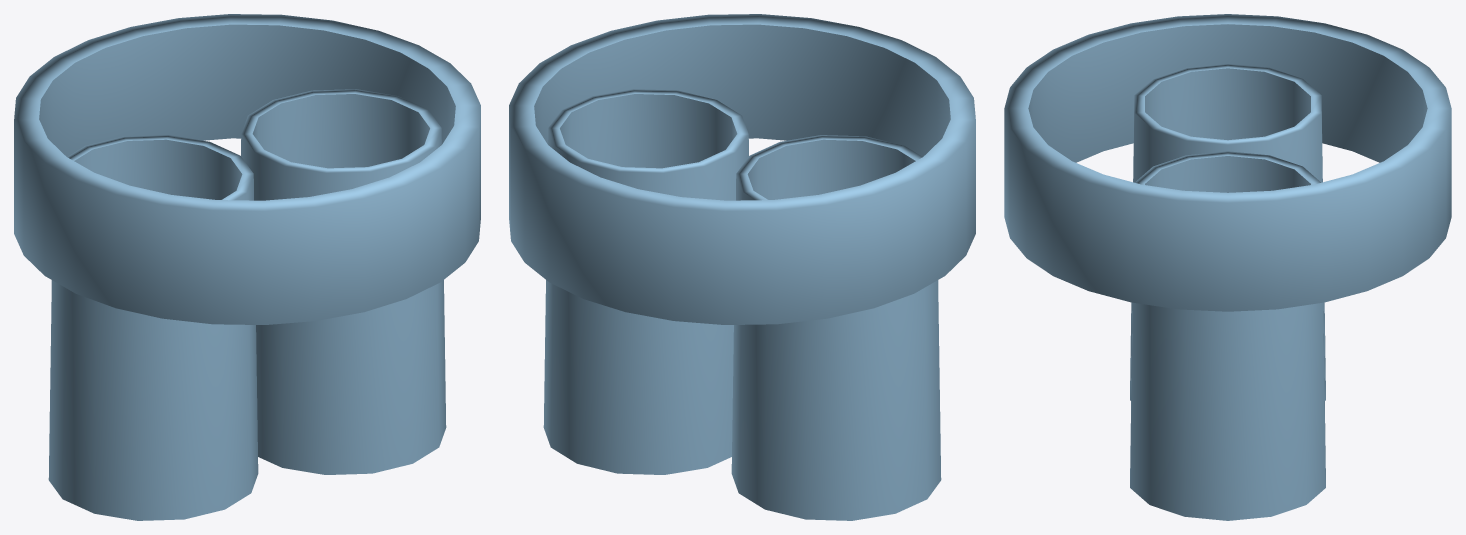
Rendered from chino_pants.glb.
3 renders of one model, left to right at view 1: azimuth 30°, elevation 25°; view 2: azimuth 150°, elevation 25°; view 3: azimuth 270°, elevation 25°, orthographic. The views are drawn at different scales.
Parts seen in each view (by area): view 1: chino_pants_Body, chino_pants_LegL, chino_pants_LegR; view 2: chino_pants_Body, chino_pants_LegL, chino_pants_LegR; view 3: chino_pants_Body, chino_pants_LegR, chino_pants_LegL.
Boxes of the visible parts, x1,y1,x2,y2 form: chino_pants_Body: [14, 14, 480, 324]; chino_pants_LegL: [48, 135, 258, 520]; chino_pants_LegR: [241, 89, 446, 474]; chino_pants_Body: [509, 14, 975, 324]; chino_pants_LegL: [731, 135, 941, 520]; chino_pants_LegR: [543, 89, 748, 474]; chino_pants_Body: [1004, 14, 1451, 311]; chino_pants_LegR: [1130, 151, 1325, 520]; chino_pants_LegL: [1130, 63, 1325, 400].
Size of the model in its own units: 0.41 by 0.33 by 0.41.
